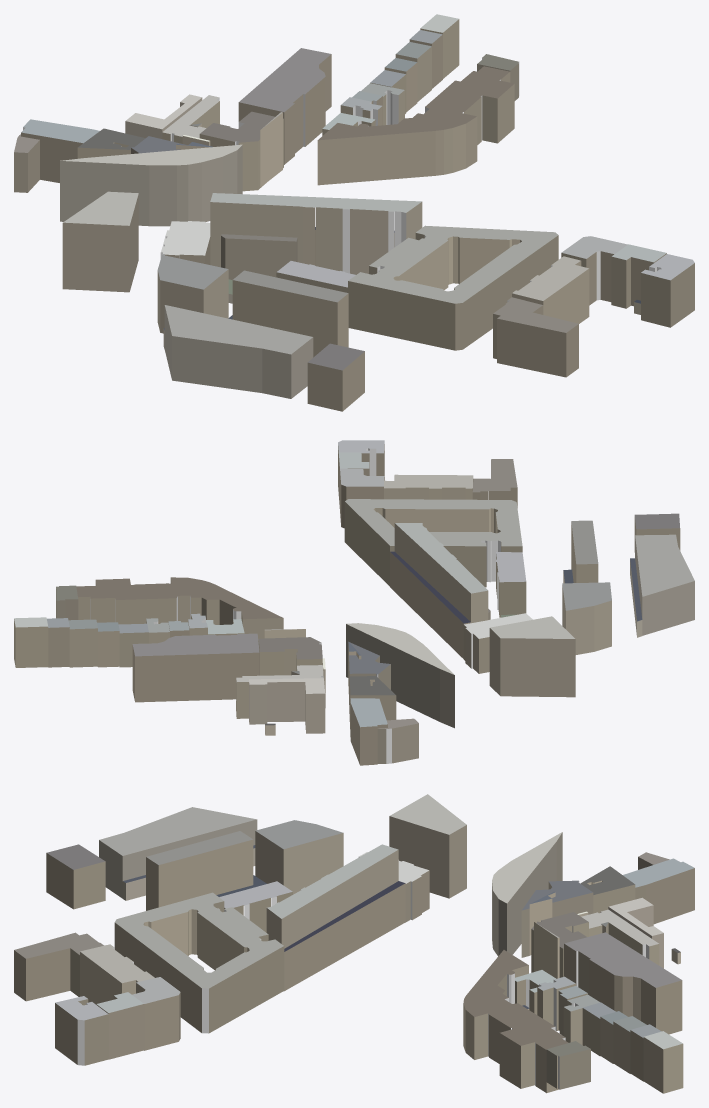
3 renders of one model, top to bottom at view 1: azimuth 30°, elevation 25°; view 2: azimuth 150°, elevation 25°; view 3: azimuth 270°, elevation 25°, orthographic. The views are drawn at different scales.
Visible parts, largest first — view 1: tuile; view 2: tuile; view 3: tuile.
Part boxes in pixels (x1=…): tuile: x1=14, y1=14, x2=694, y2=411; tuile: x1=14, y1=440, x2=694, y2=765; tuile: x1=14, y1=794, x2=694, y2=1093.
Size of the model in its own units: 239 by 32.53 by 273.
